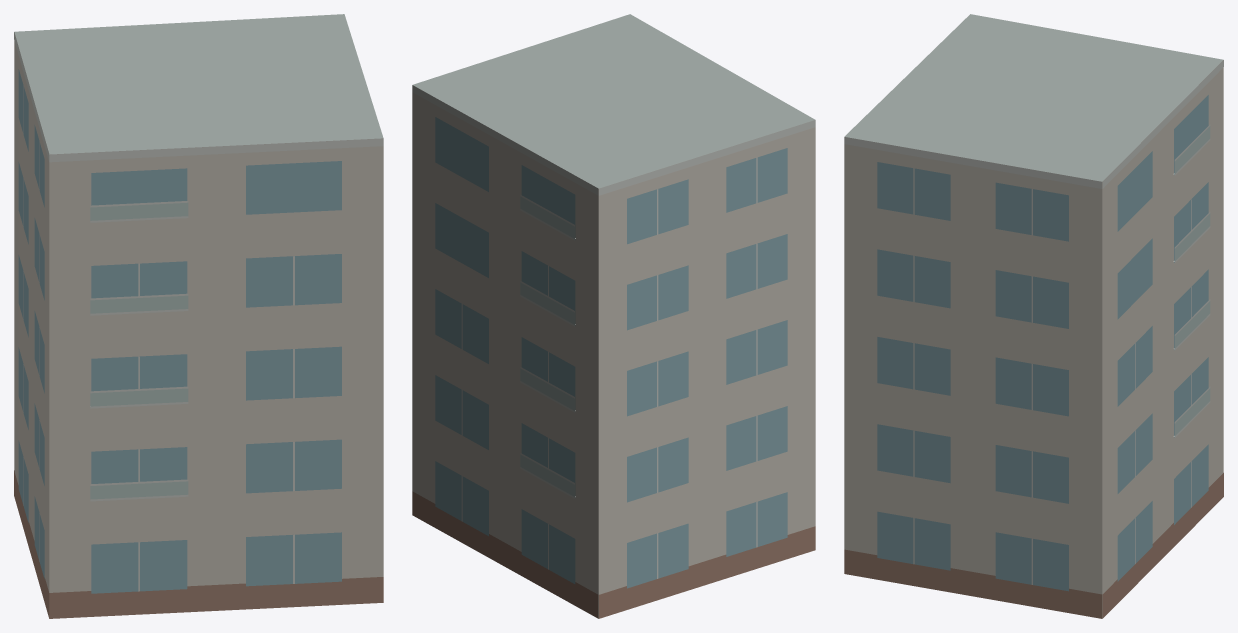
Rendered from survey-upis-33017214.glb.
The picture shows the model from 3 angles, left to right: view 1: azimuth 30°, elevation 25°; view 2: azimuth 150°, elevation 25°; view 3: azimuth 270°, elevation 25°; orthographic projection. The views are drawn at different scales.
Visible parts, largest first — view 1: survey-upis-33017214.tmp; view 2: survey-upis-33017214.tmp; view 3: survey-upis-33017214.tmp.
Boxes of the visible parts, left/top/right/bottom form: survey-upis-33017214.tmp: left=14, top=14, right=383, bottom=618; survey-upis-33017214.tmp: left=412, top=14, right=815, bottom=618; survey-upis-33017214.tmp: left=844, top=14, right=1223, bottom=618.
Bounding box in the file's own units: 11.94 × 14.5 × 11.42.
